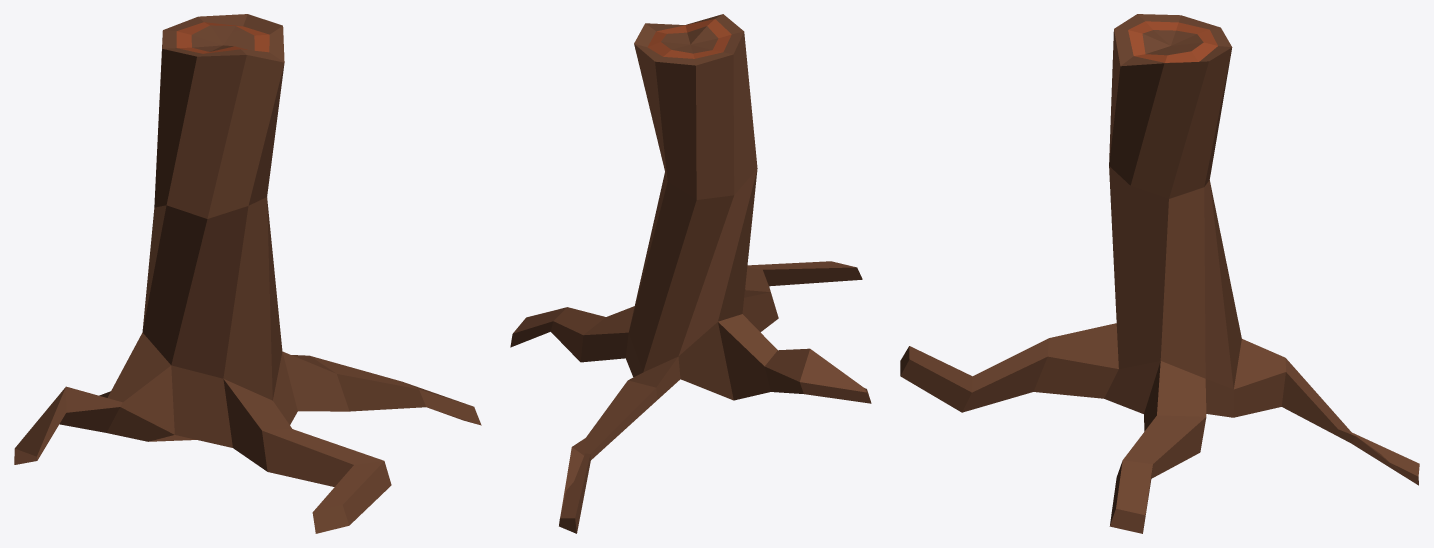
3 views of the same model, side by side, from view 1: azimuth 30°, elevation 25°; view 2: azimuth 150°, elevation 25°; view 3: azimuth 270°, elevation 25° (orthographic). The views are drawn at different scales.
Visible parts, largest first — view 1: dead1; view 2: dead1; view 3: dead1.
Part boxes in pixels (x1,y1,x2,y2): dead1: (14,14,481,533); dead1: (510,14,871,533); dead1: (900,14,1419,533).
Size of the model in its own units: 299 by 320 by 335.
